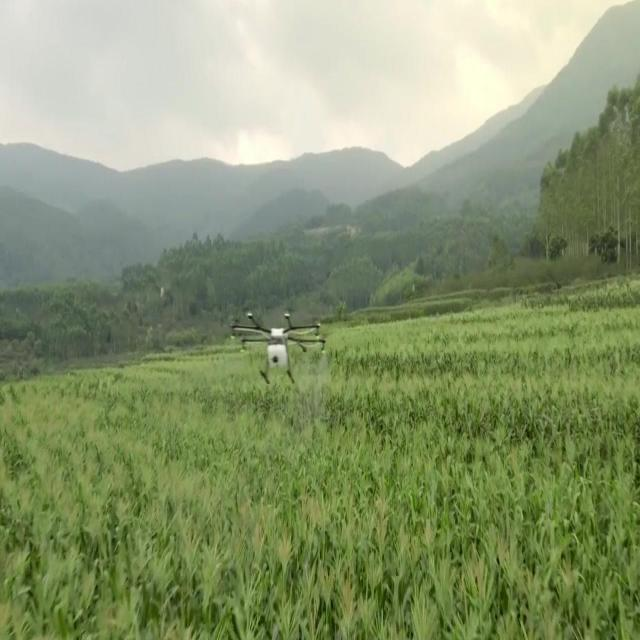UAV: (229, 309, 327, 387)
